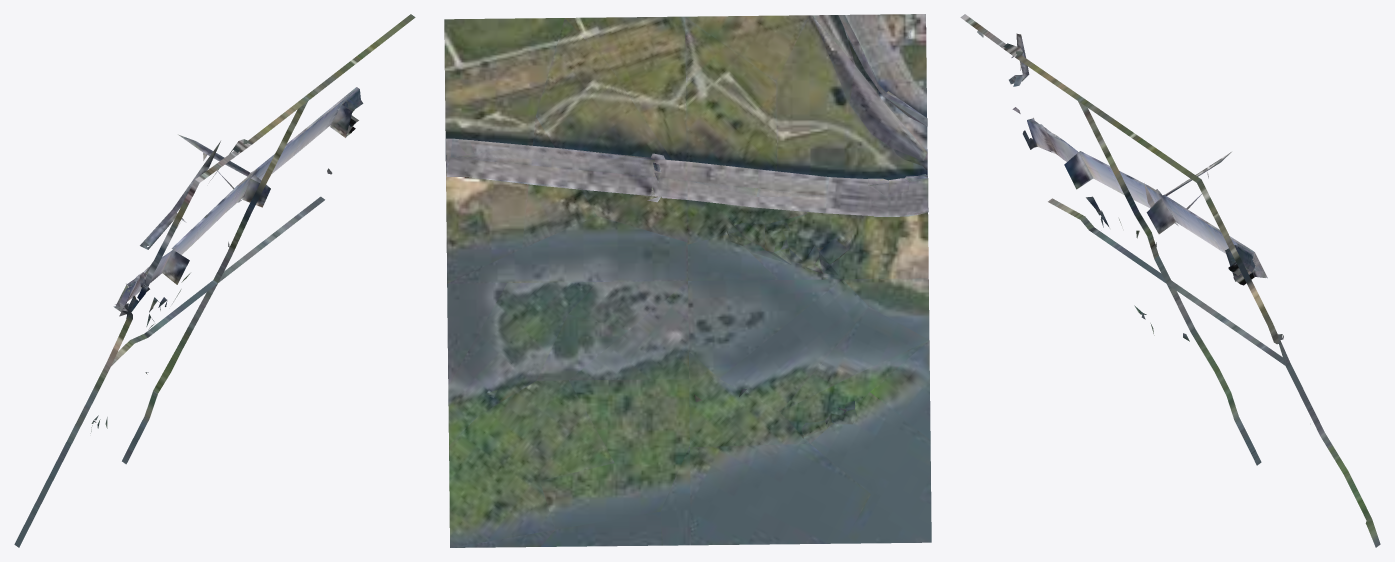
3 views of the same model, side by side, from view 1: azimuth 30°, elevation 25°; view 2: azimuth 150°, elevation 25°; view 3: azimuth 270°, elevation 25° (orthographic). The views are drawn at different scales.
Size of the model in its own units: 610 by 565 by 511.
Materials: 1 (1 with a texture image).
